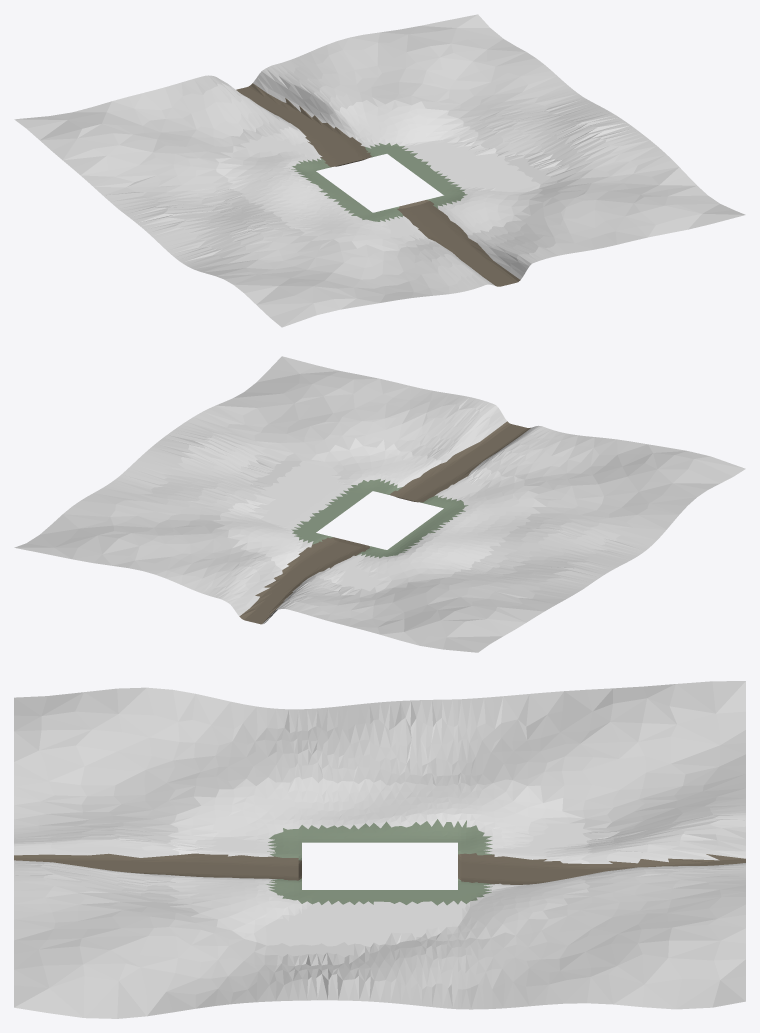
Rendered from SM_Env_BackdropHills.fbx.
3 views of the same model, one above another, from view 1: azimuth 30°, elevation 25°; view 2: azimuth 150°, elevation 25°; view 3: azimuth 270°, elevation 25° (orthographic). The views are drawn at different scales.
Visible parts, largest first — view 1: SM_Env_BackdropHills; view 2: SM_Env_BackdropHills; view 3: SM_Env_BackdropHills.
Boxes of the visible parts, bbox=[...] form: SM_Env_BackdropHills: bbox=[14, 14, 745, 327]; SM_Env_BackdropHills: bbox=[14, 356, 745, 652]; SM_Env_BackdropHills: bbox=[14, 681, 745, 1018].
Size of the model in its own units: 840 by 44.53 by 840.
